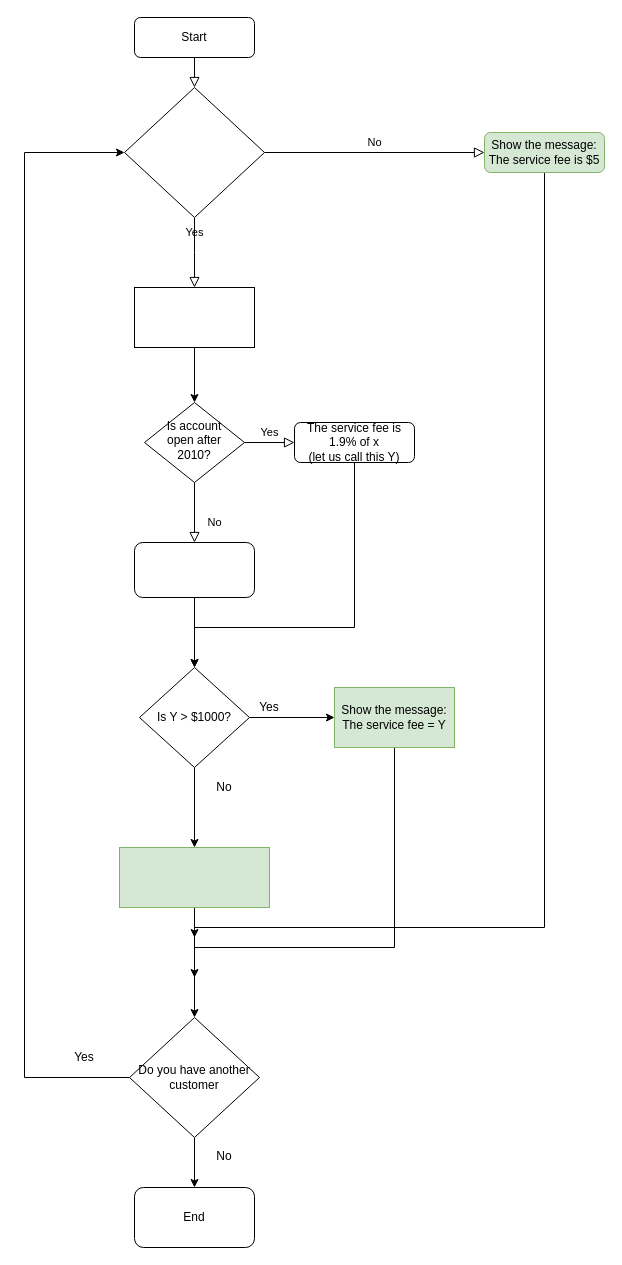
Image size: 622x1265. Some labels were removed from this diagram. The shapes that lost their labels are listed below. From the top down, each one's centre as x and y in pixels, then its label:
At (x=194, y=152): "Does the customer have any transcations in this month?".
At (x=194, y=317): "Enter the transaction amount (x)".
At (x=194, y=570): "The service fee is 1.5% of x (Let us call this Y)".
At (x=194, y=877): "Show the message The service fee = $1000".
